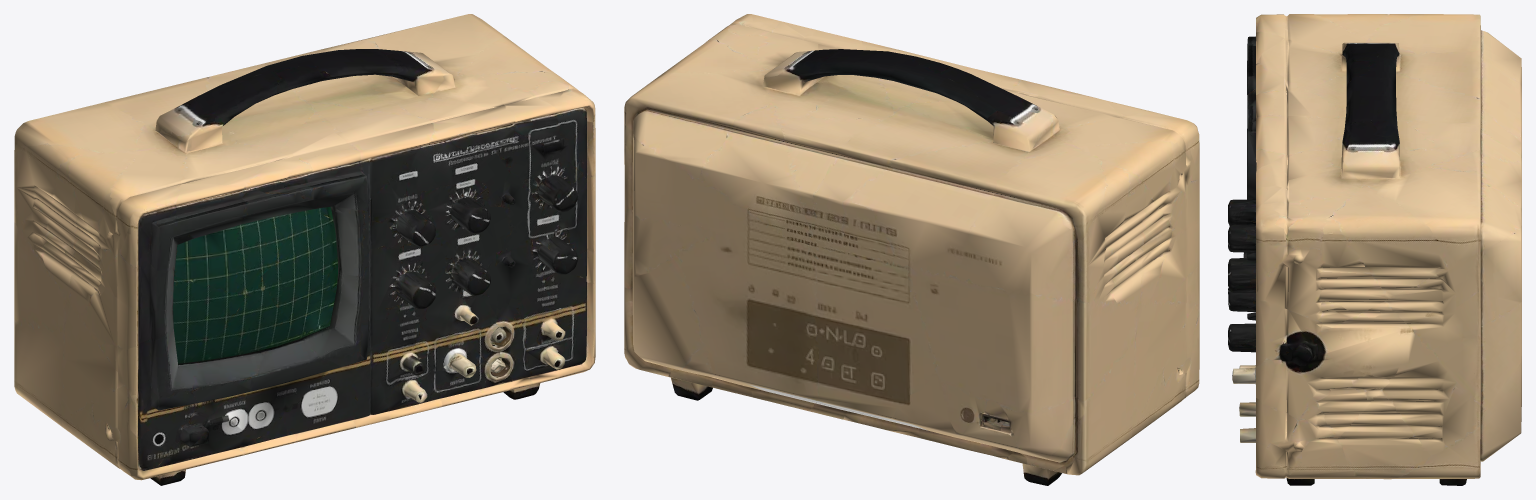
3 views of the same model, side by side, from view 1: azimuth 30°, elevation 25°; view 2: azimuth 150°, elevation 25°; view 3: azimuth 270°, elevation 25° (orthographic). The views are drawn at different scales.
Size of the model in its own units: 1.9 by 1.31 by 1.07.
1 material, 1 textured.
